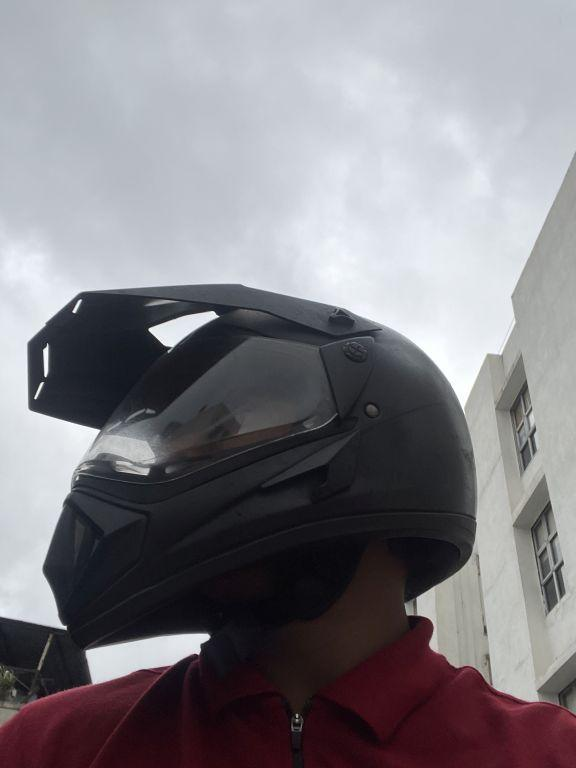helmet: (19, 264, 485, 653)
